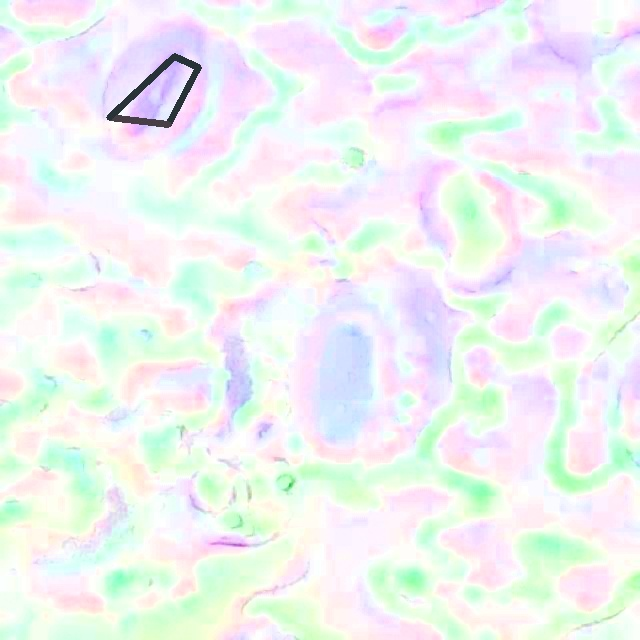open: (106, 53, 201, 127)
